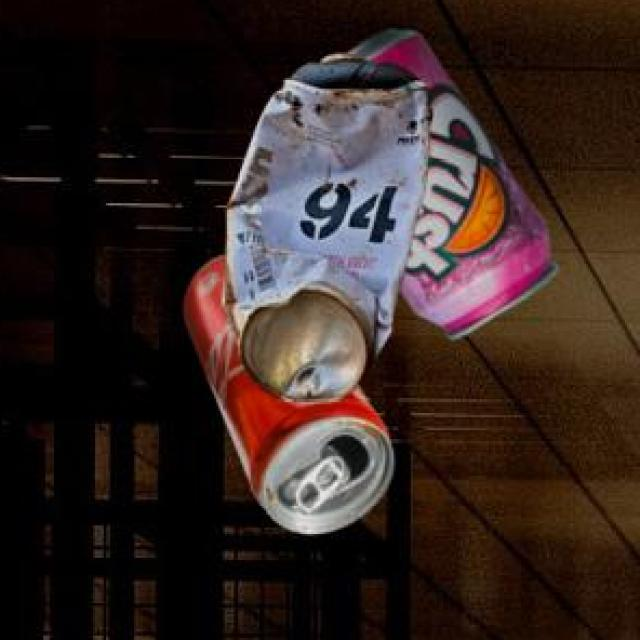logam: (226, 57, 436, 408), (351, 34, 561, 343), (187, 258, 397, 537)
